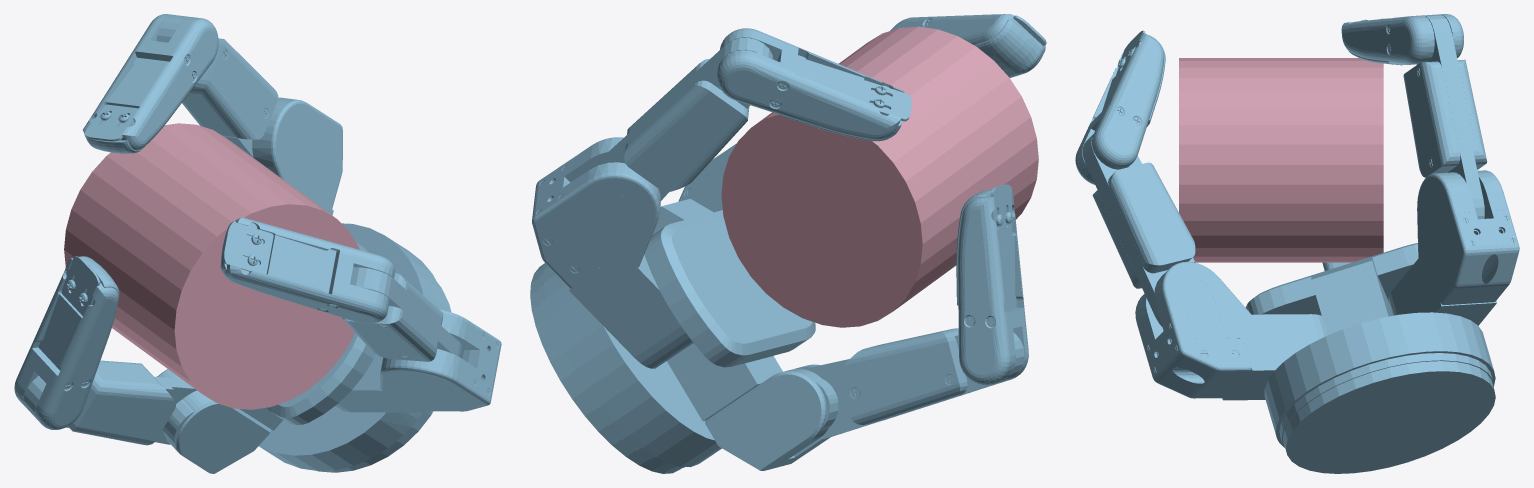
The picture shows the model from 3 angles, left to right: view 1: azimuth 30°, elevation 25°; view 2: azimuth 150°, elevation 25°; view 3: azimuth 270°, elevation 25°; orthographic projection. The views are drawn at different scales.
Visible parts, largest first — view 1: world; view 2: world; view 3: world.
Boxes of the visible parts, left/top/right/bottom form: world: left=14, top=14, right=501, bottom=473; world: left=530, top=14, right=1046, bottom=473; world: left=1075, top=14, right=1519, bottom=473.
Size of the model in its own units: 0.179 by 0.1794 by 0.1736.
